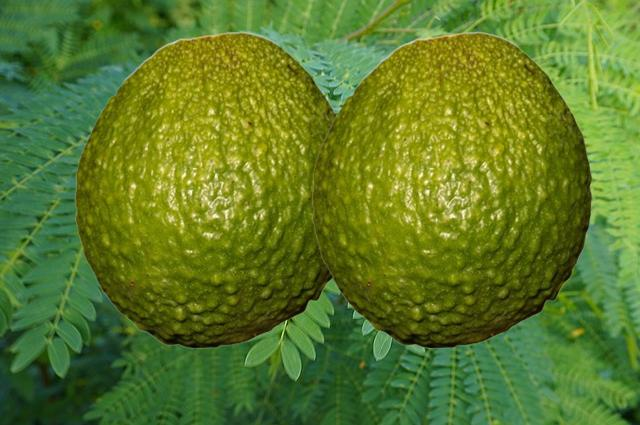avocado: (311, 31, 591, 347), (74, 31, 337, 347)
